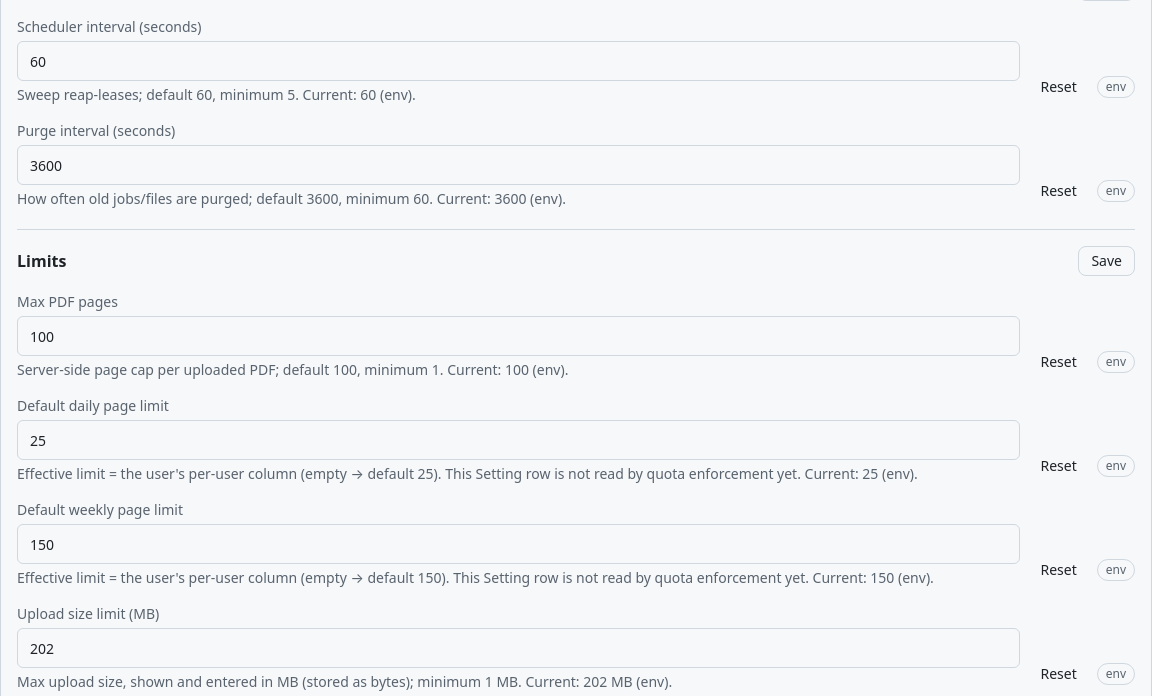
it: floor client-side: max_pages 0 → ô lỗi, không PUT
The image size is (1152, 696).
(page scrolled)
Replace the text in the number field with test id "input-max-pages" with "0" at (519, 336), box [17, 316, 1020, 356]
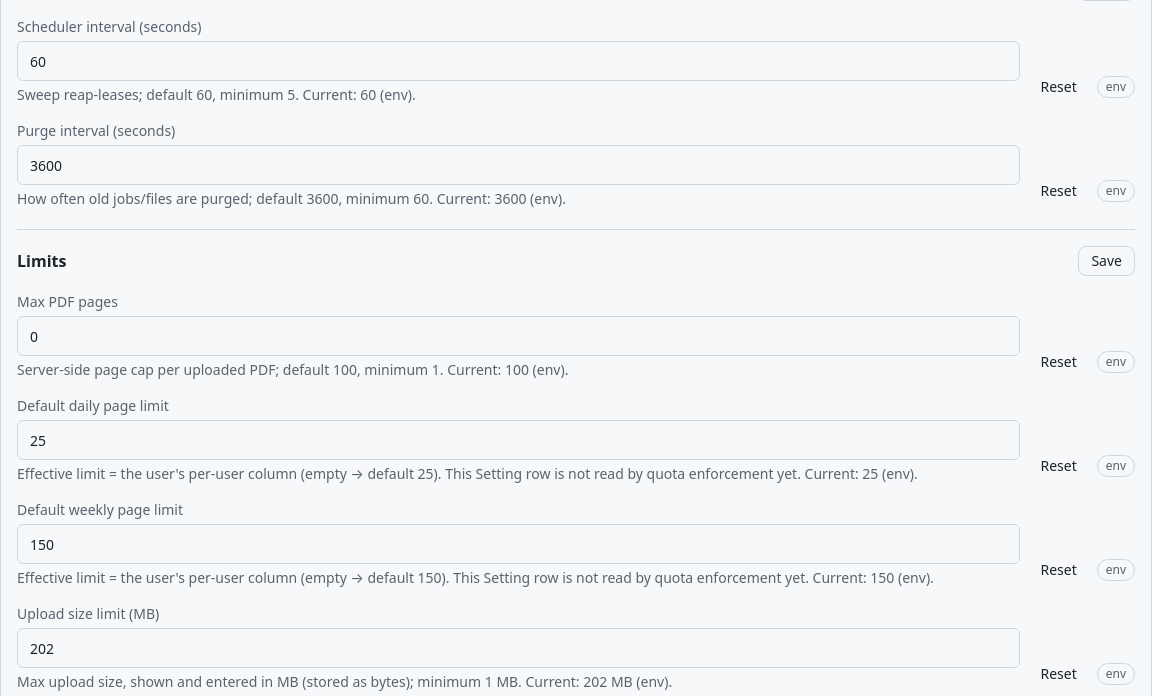
Click the button with test id "btn-save-limits" at (1107, 261), box [1078, 246, 1135, 276]
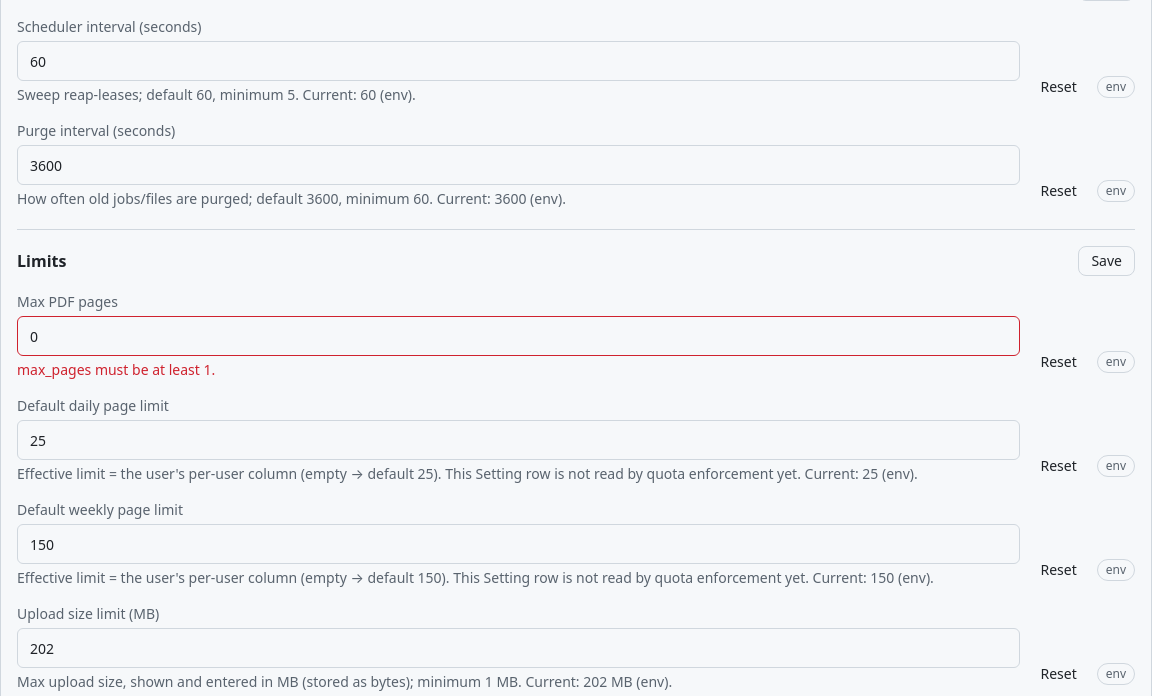
Check: the message "max_pages must be at least 1." is shown, box [17, 360, 215, 379]
